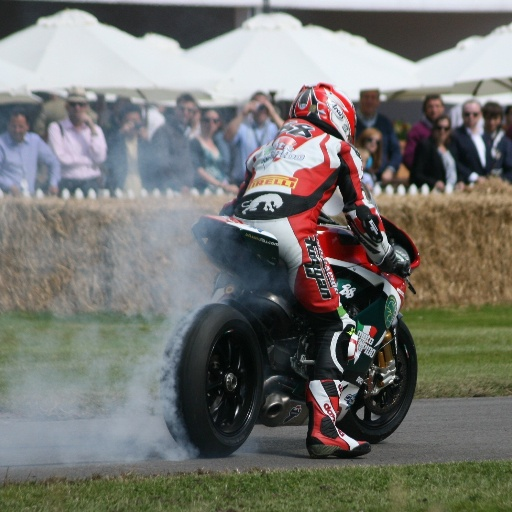hand: (377, 245, 410, 279), (189, 111, 202, 134), (256, 96, 274, 112), (241, 100, 261, 114), (379, 169, 394, 183), (80, 112, 92, 126), (453, 179, 466, 191), (7, 184, 21, 194), (121, 122, 133, 133), (46, 185, 58, 195), (225, 184, 240, 192), (433, 181, 445, 191), (139, 127, 147, 140)
